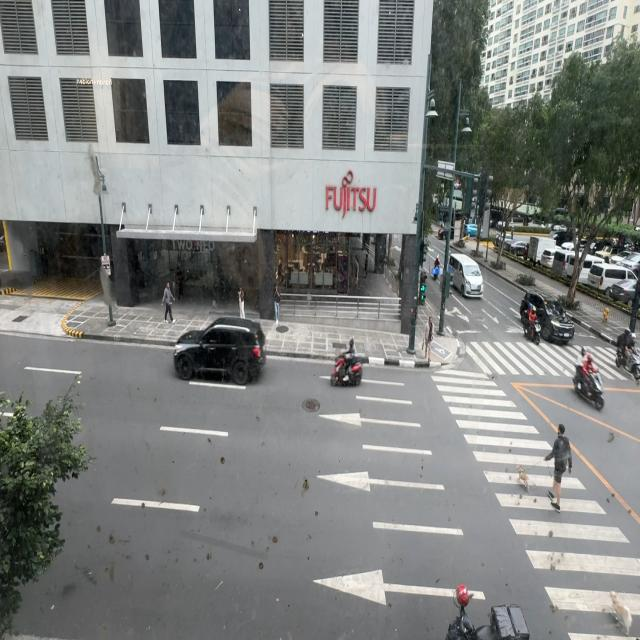crossing: (536, 414, 576, 524)
pedestrain: (162, 284, 176, 325), (273, 283, 281, 326), (238, 287, 245, 319)
waiting: (422, 316, 434, 363)
